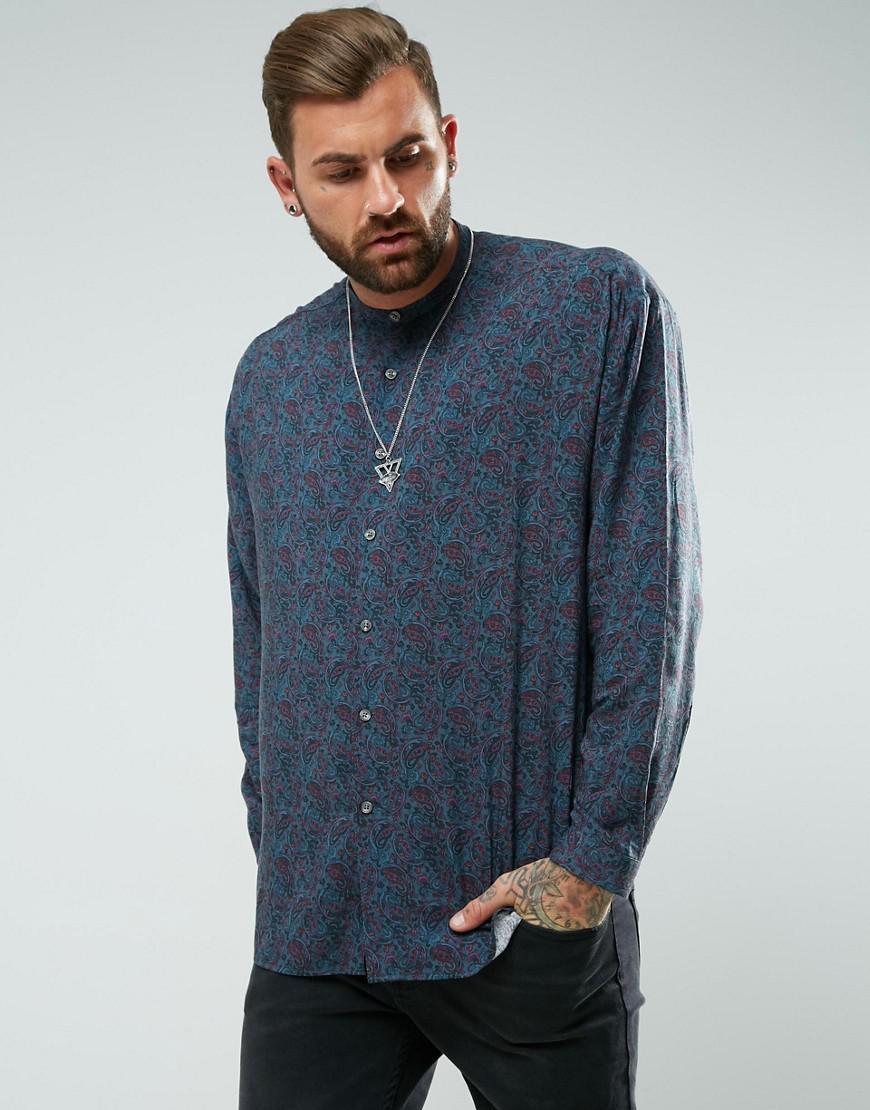teeshirt: (208, 246, 751, 944)
